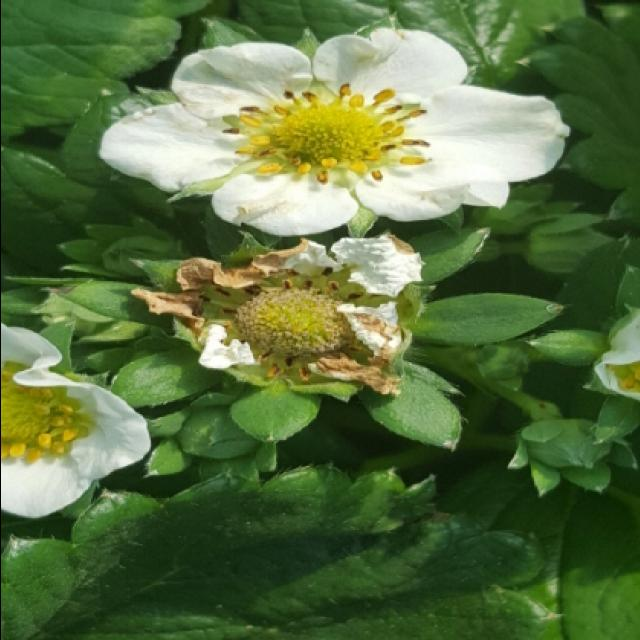Blossom Blight: (217, 80, 437, 190), (185, 264, 375, 388)
